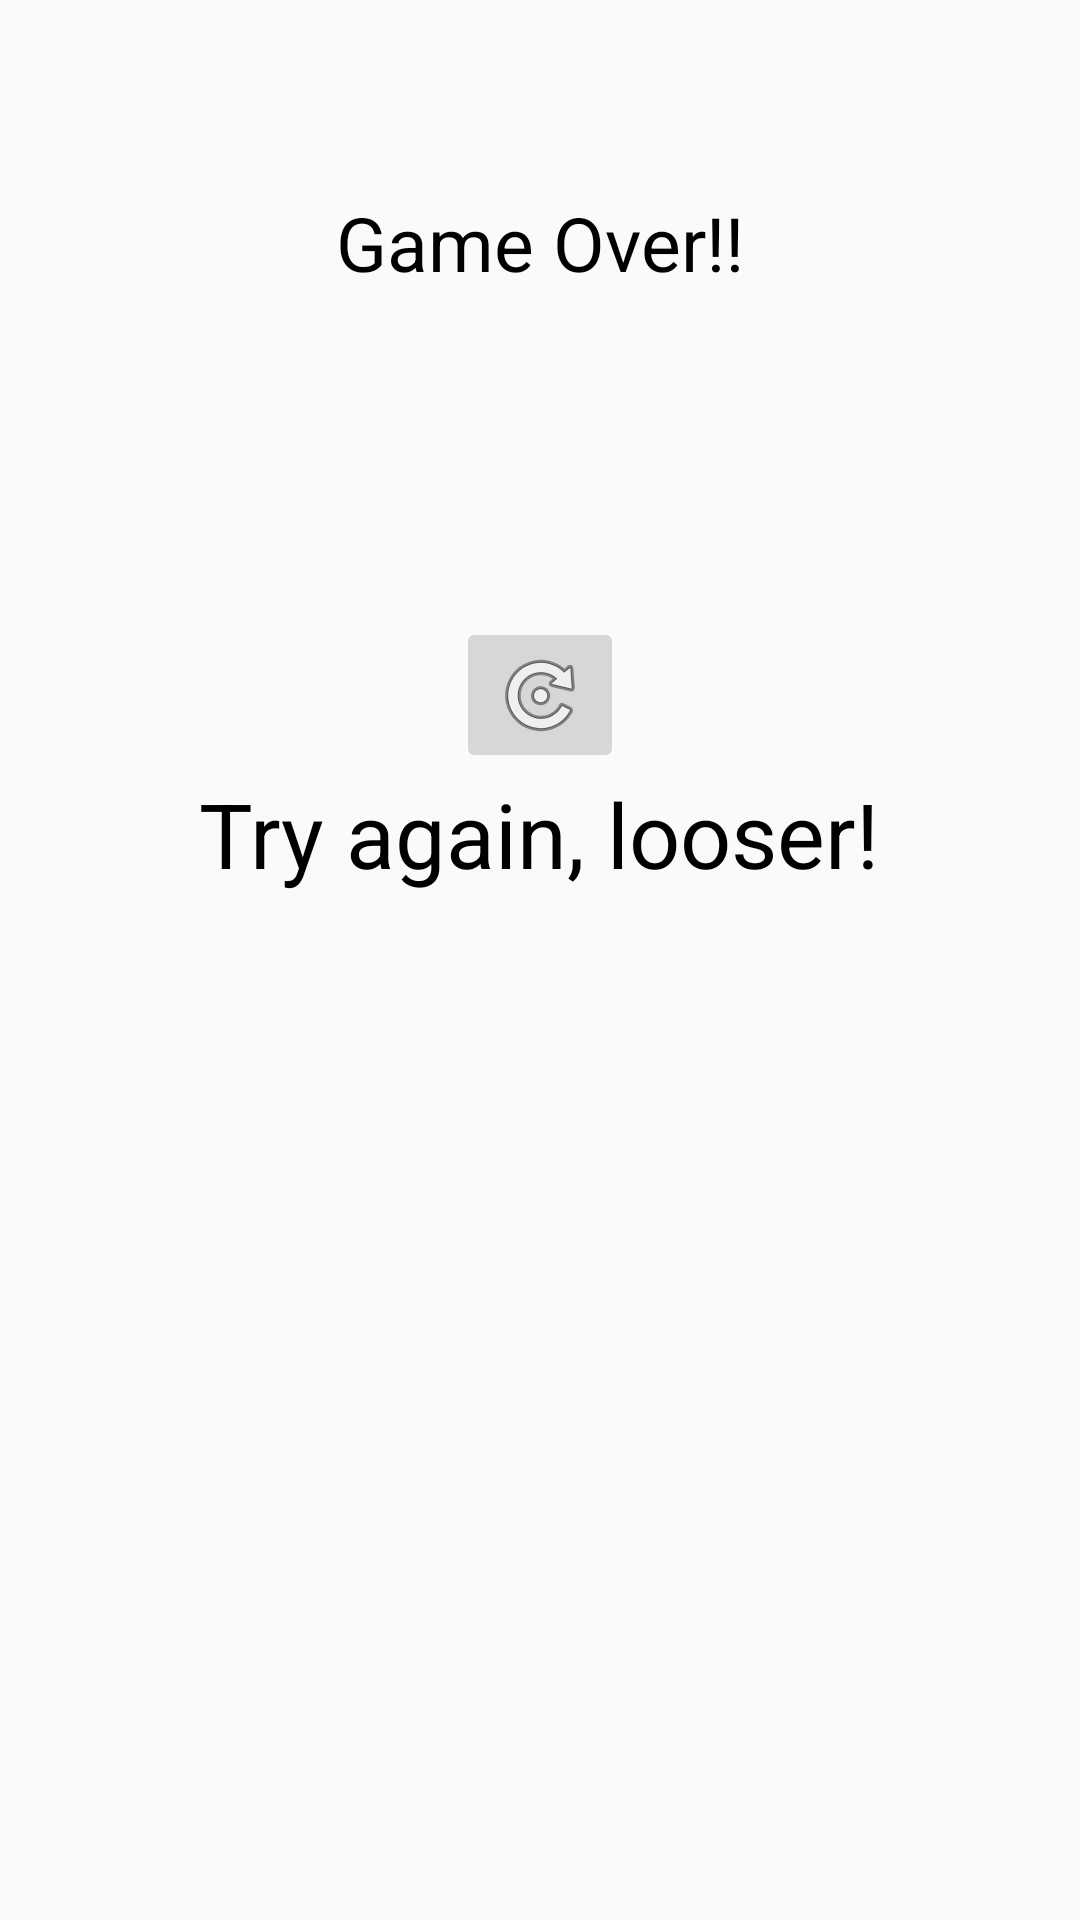

Point at icon controls on the screen. Image size 1080x1920, points as (x,y).
rotate: (540,695)
